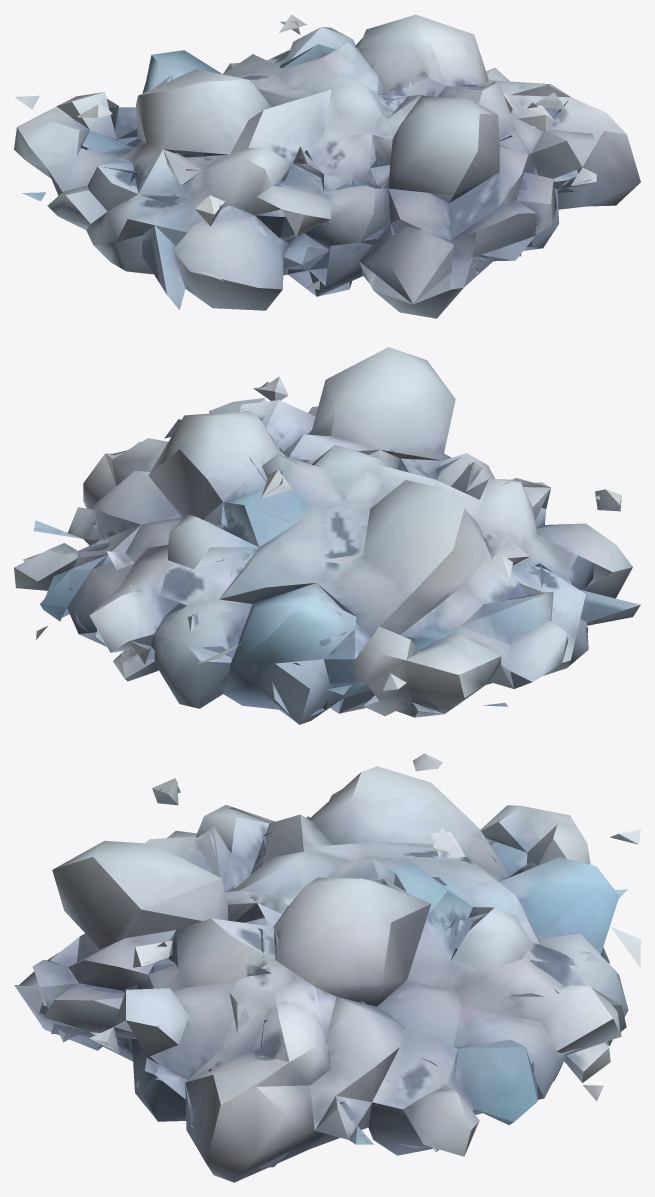
The model's file is 戰場煙霧.glb.
The picture shows the model from 3 angles, top to bottom: view 1: azimuth 30°, elevation 25°; view 2: azimuth 150°, elevation 25°; view 3: azimuth 270°, elevation 25°; orthographic projection. The views are drawn at different scales.
Visible parts, largest first — view 1: geometry_0; view 2: geometry_0; view 3: geometry_0.
Part boxes in pixels (box(x1,y1,x2,y2)): geometry_0: box(14, 14, 640, 318); geometry_0: box(14, 347, 640, 724); geometry_0: box(14, 753, 640, 1182).
Bounding box in the file's own units: 0.9002 × 0.3335 × 0.8.
1 material, 1 textured.
